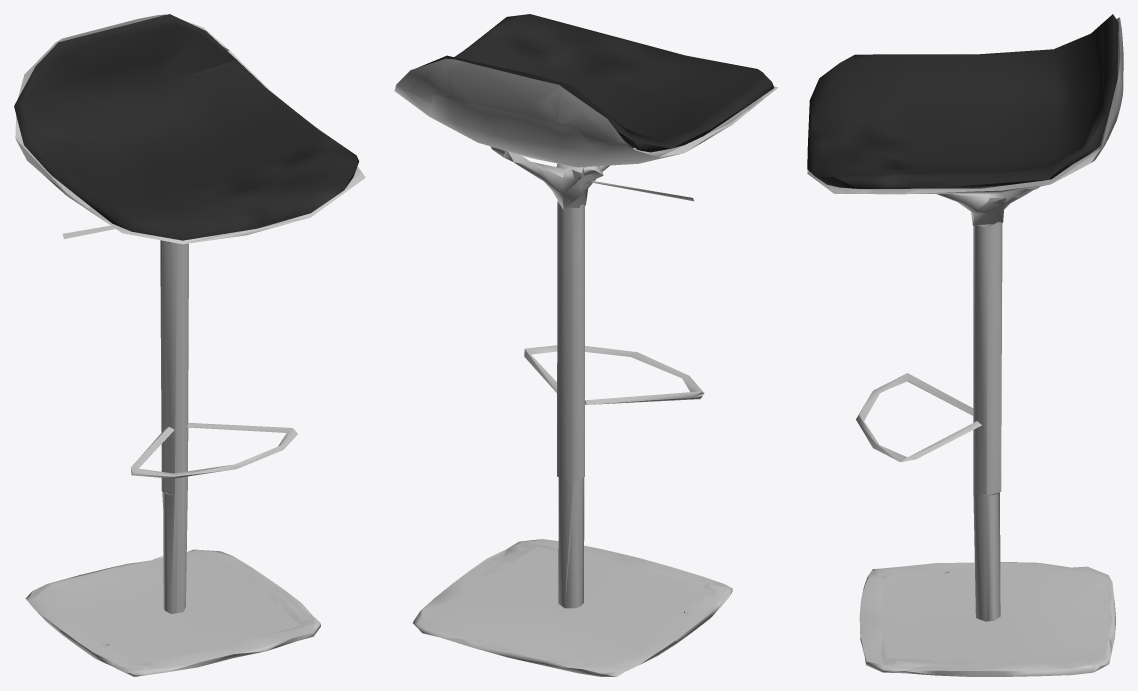
The model's file is Chair0035.obj.
The picture shows the model from 3 angles, left to right: view 1: azimuth 30°, elevation 25°; view 2: azimuth 150°, elevation 25°; view 3: azimuth 270°, elevation 25°; orthographic projection. The views are drawn at different scales.
Size of the model in its own units: 0.5 by 1.01 by 0.501.
1 material, 1 textured.
